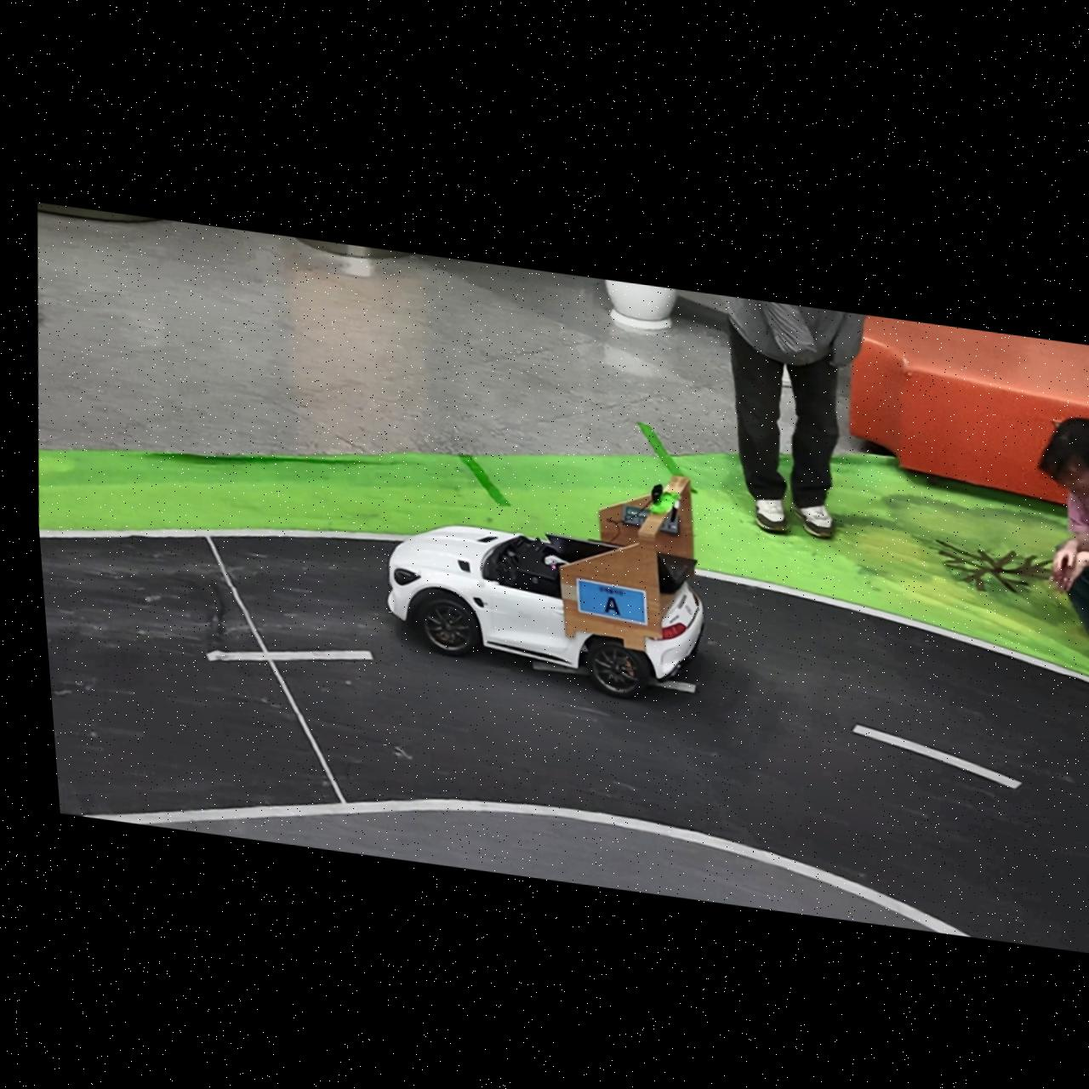broken_line: (852, 725, 1022, 789), (206, 650, 374, 661), (533, 661, 588, 675), (651, 677, 696, 693)
